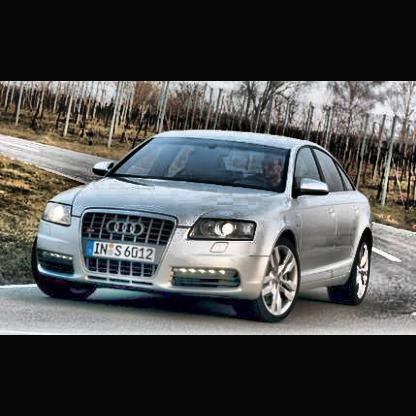Audi S6 Sedan 2011: (36, 128, 376, 324)
